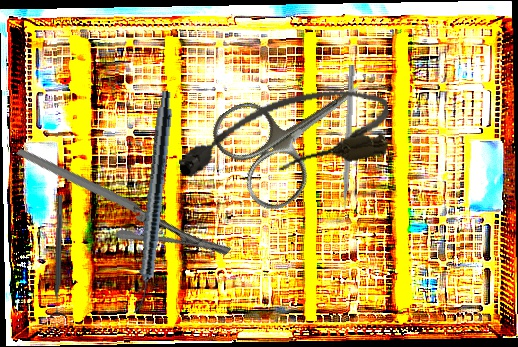Cannula: (171, 78, 396, 192)
Chopper: (332, 64, 356, 222)
Fixation Ring: (48, 194, 71, 319)
Handpiece: (130, 90, 176, 315)
Iris Scissors: (203, 42, 392, 219)
Needle Holder: (15, 92, 233, 310)
